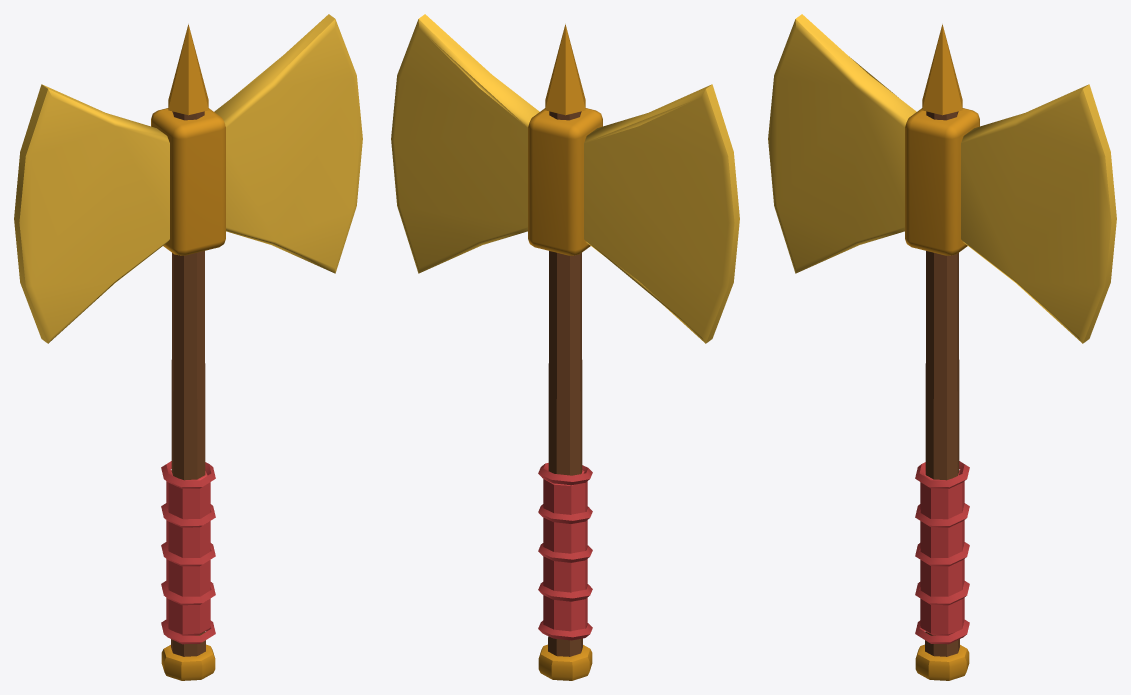
The model's file is GoldBattleAxe.fbx.
3 renders of one model, left to right at view 1: azimuth 30°, elevation 25°; view 2: azimuth 150°, elevation 25°; view 3: azimuth 330°, elevation 25°, orthographic.
Visible parts, largest first — view 1: GoldBattleAxe; view 2: GoldBattleAxe; view 3: GoldBattleAxe.
Boxes of the visible parts, bbox=[...] form: GoldBattleAxe: bbox=[14, 14, 362, 680]; GoldBattleAxe: bbox=[391, 14, 739, 680]; GoldBattleAxe: bbox=[768, 14, 1116, 680].
Size of the model in its own units: 2.2 by 3.97 by 0.34.
1 material, 1 textured.
